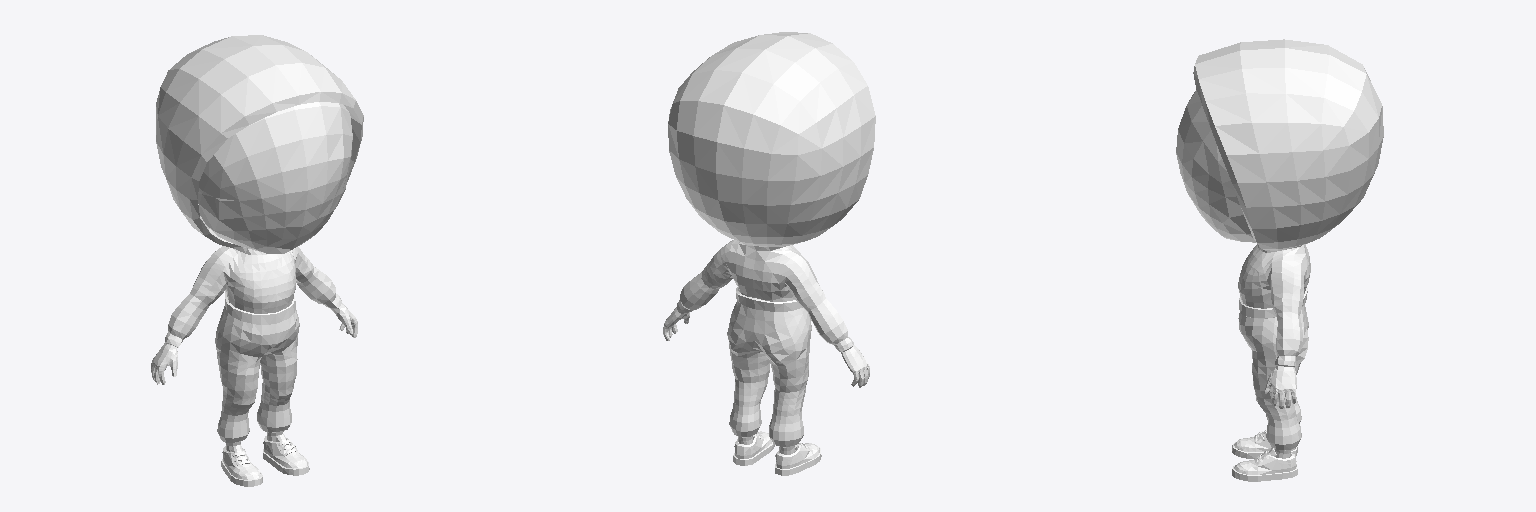
Rendered from red_02.obj.
The picture shows the model from 3 angles: view 1: azimuth 30°, elevation 25°; view 2: azimuth 150°, elevation 25°; view 3: azimuth 270°, elevation 25°; orthographic projection.
Visible parts, largest first — view 1: characters_02_Mesh.022; view 2: characters_02_Mesh.022; view 3: characters_02_Mesh.022.
Part boxes in pixels (x1,y1,x2,y2): characters_02_Mesh.022: (151, 35, 363, 486); characters_02_Mesh.022: (663, 32, 875, 475); characters_02_Mesh.022: (1176, 39, 1383, 481).
Size of the model in its own units: 0.402 by 0.7951 by 0.36.